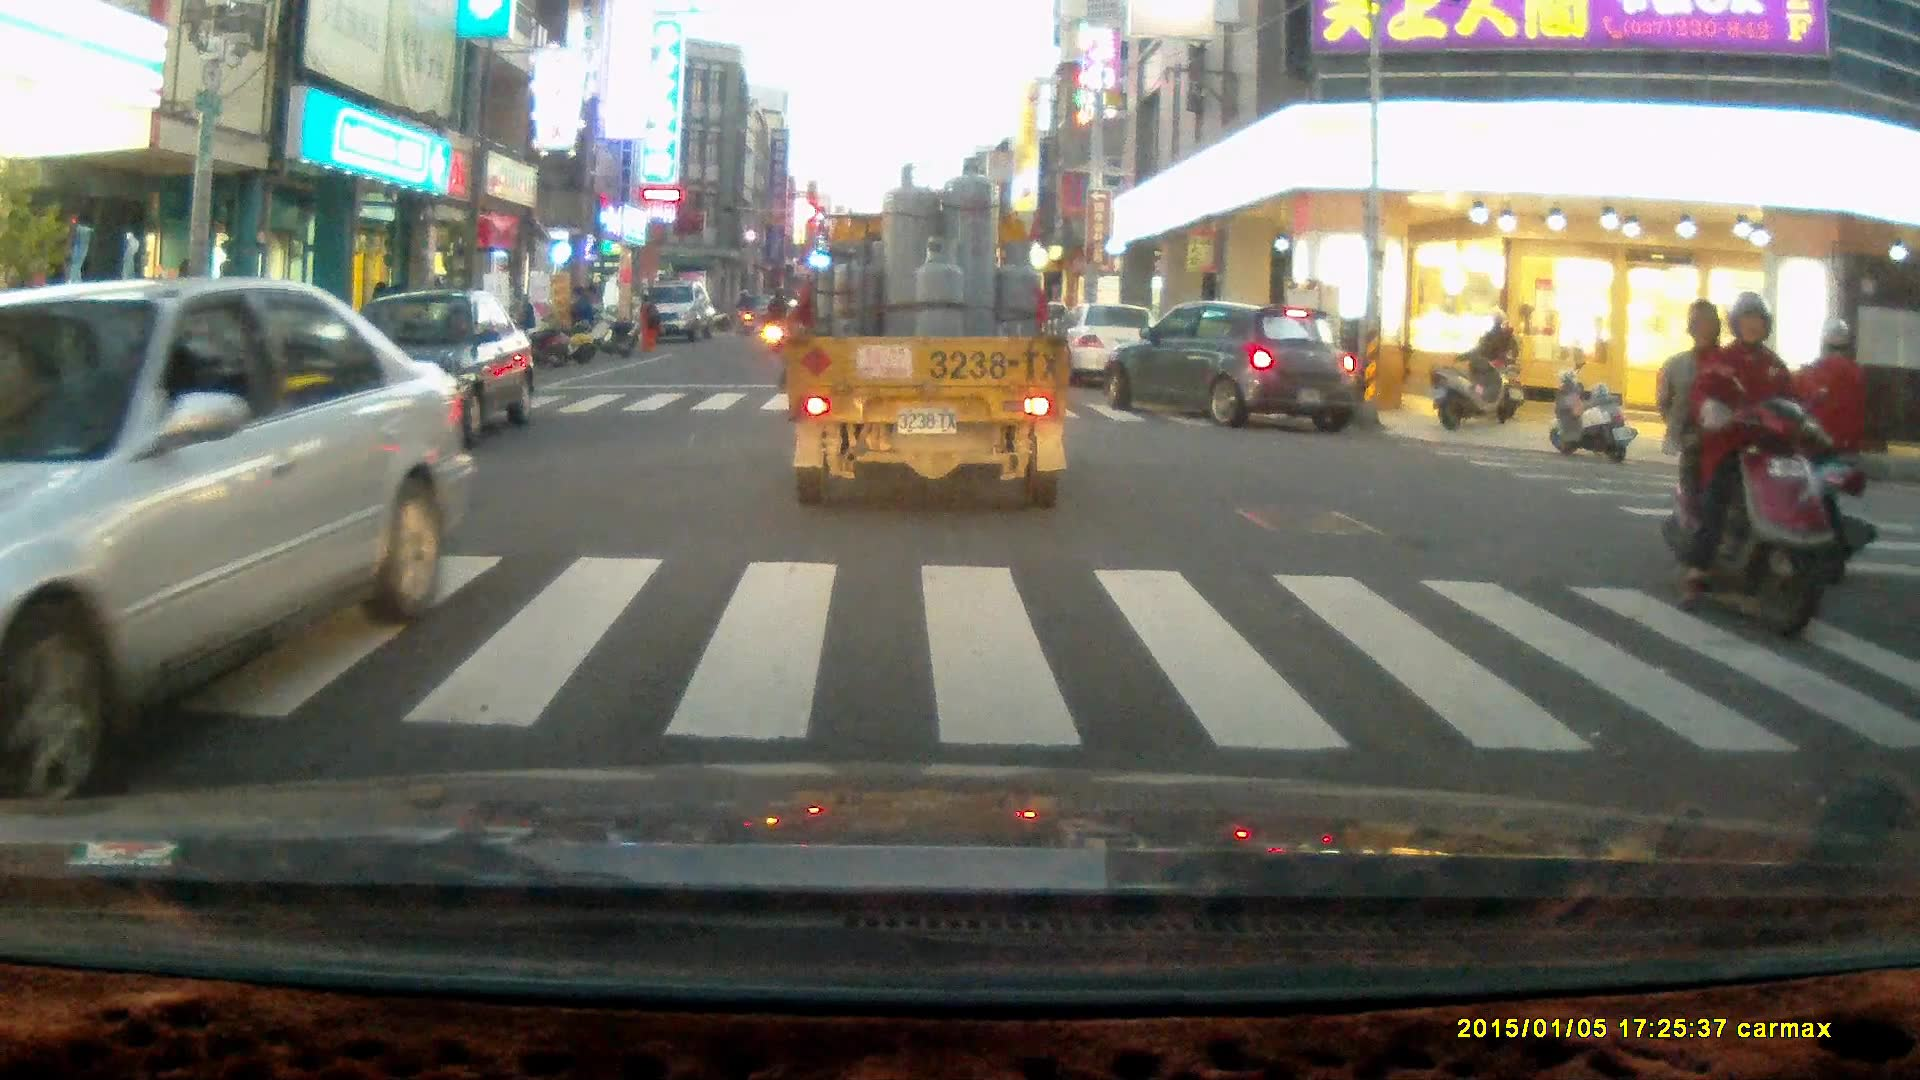pedestrian: (568, 284, 597, 350), (632, 294, 657, 354)
rider: (1650, 292, 1835, 646), (1755, 306, 1878, 600), (1465, 308, 1526, 426)
vehicle: (1, 277, 471, 791), (786, 155, 1077, 511), (1105, 302, 1357, 431), (1045, 305, 1171, 393), (632, 280, 708, 341)
